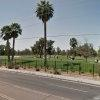Palm tree: (32, 0, 56, 53)
